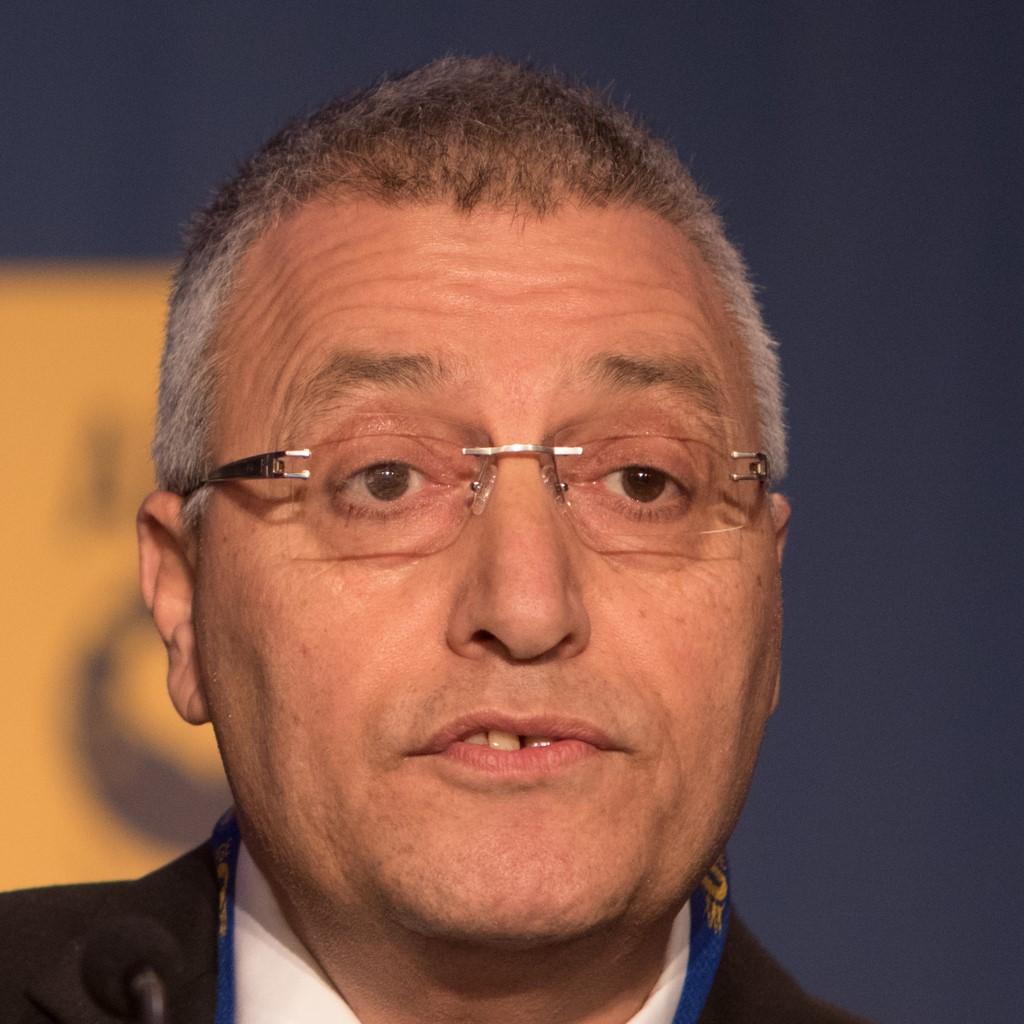sin_mascara: (143, 75, 782, 962)
